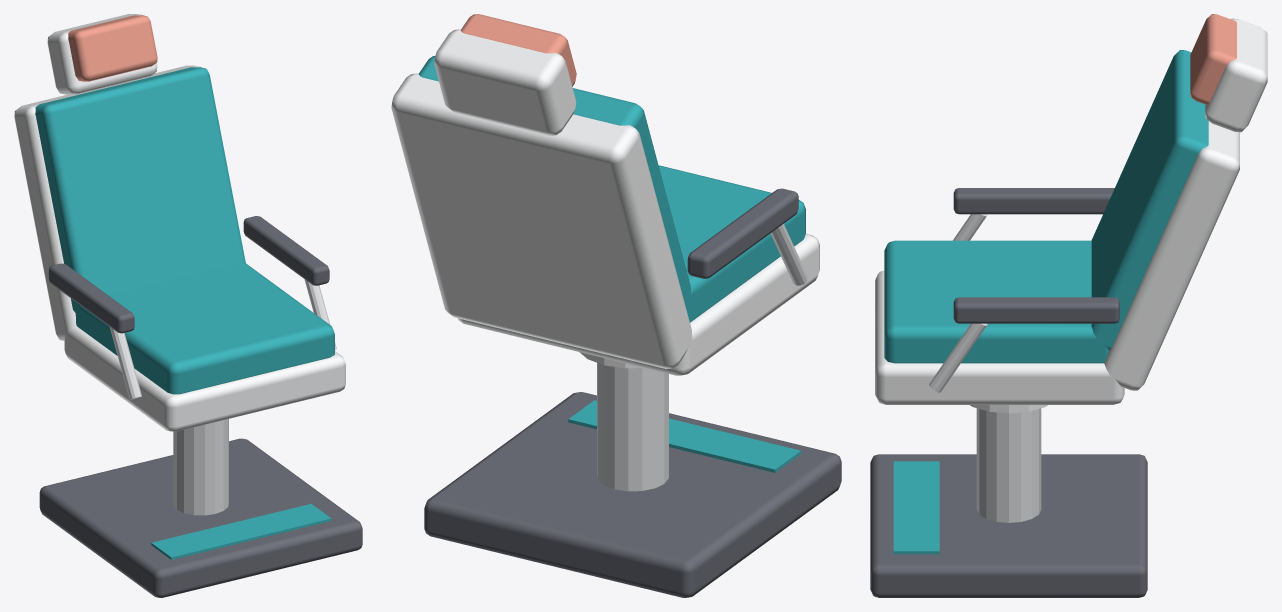
3 views of the same model, side by side, from view 1: azimuth 30°, elevation 25°; view 2: azimuth 150°, elevation 25°; view 3: azimuth 270°, elevation 25° (orthographic). The views are drawn at different scales.
Visible parts, largest first — view 1: test-chair-reclined, chair-back-pad, chair-back, headrest-pad, headrest-shell; view 2: test-chair-reclined, chair-back, headrest-shell, chair-back-pad, headrest-pad; view 3: test-chair-reclined, chair-back-pad, chair-back, headrest-shell, headrest-pad.
Boxes of the visible parts, box(x1,y1,x2,y2) form: test-chair-reclined: box(39, 216, 362, 597); chair-back-pad: box(35, 67, 245, 312); chair-back: box(14, 65, 201, 340); headrest-pad: box(68, 15, 157, 81); headrest-shell: box(47, 14, 157, 94); test-chair-reclined: box(424, 165, 841, 597); chair-back: box(391, 73, 692, 369); headrest-shell: box(434, 29, 576, 135); chair-back-pad: box(419, 55, 690, 306); headrest-pad: box(461, 14, 576, 86); test-chair-reclined: box(870, 188, 1147, 597); chair-back-pad: box(1091, 50, 1208, 349); chair-back: box(1104, 121, 1239, 390); headrest-shell: box(1205, 18, 1267, 132); headrest-pad: box(1190, 14, 1236, 104).
Bounding box in the file's own units: 0.61 × 1.22 × 0.8592.
